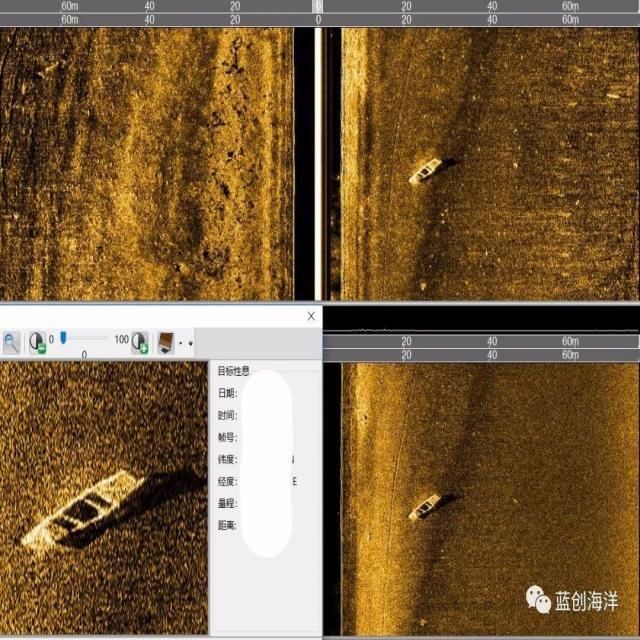shipwreck: (25, 470, 146, 550), (406, 487, 444, 527), (408, 152, 444, 188)
